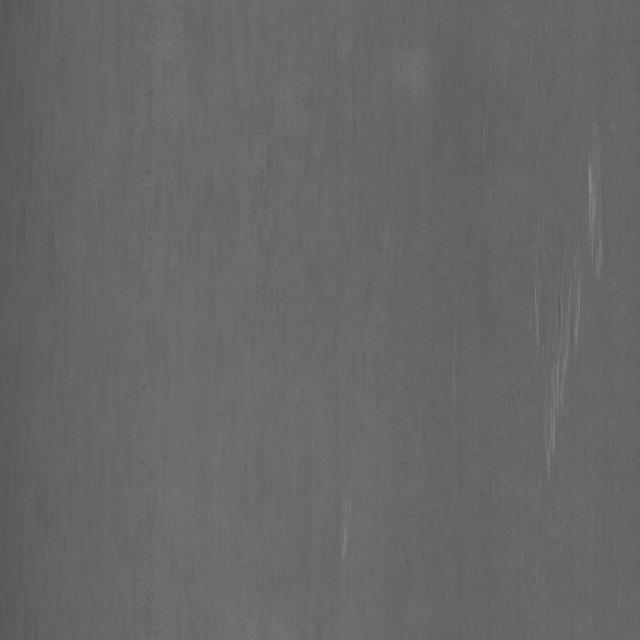inclusion: (478, 131, 618, 501)
